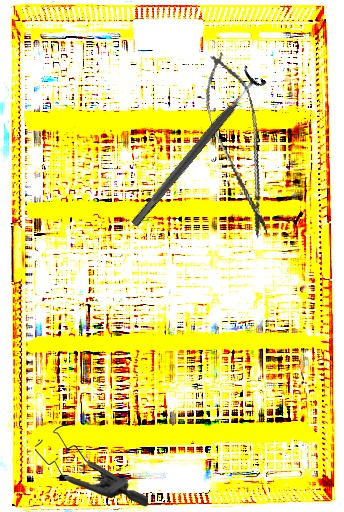Fixation Ring: (122, 64, 268, 234)
Micro Scissor: (193, 44, 287, 245)
Speculum: (35, 424, 148, 507)
